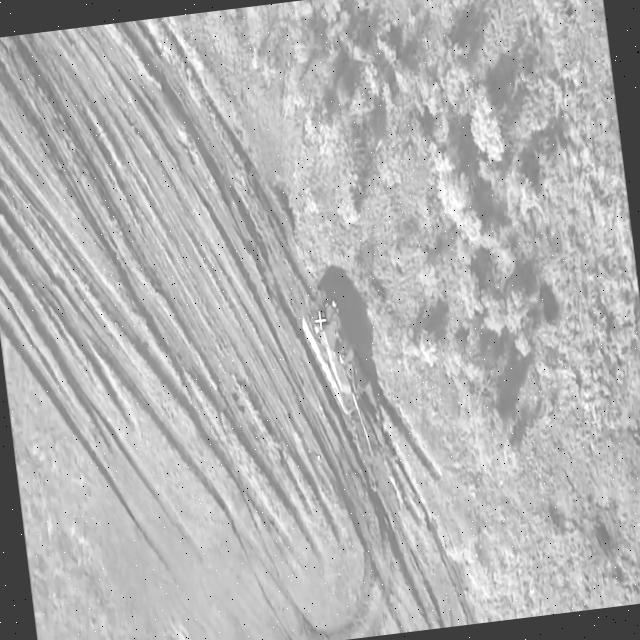MBT: (298, 286, 382, 465)
